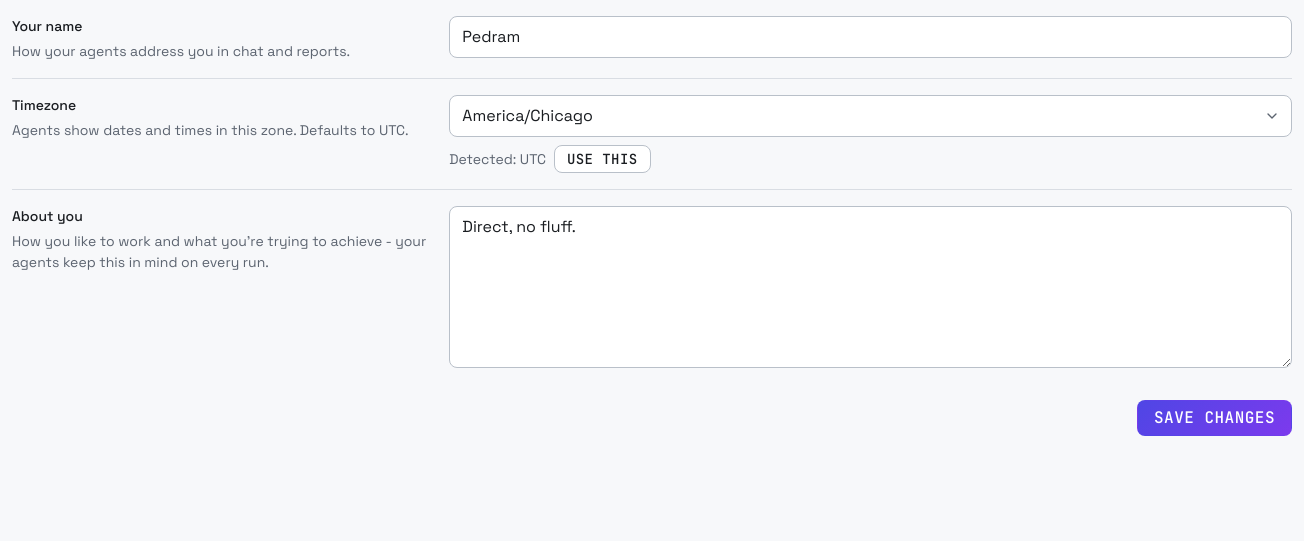
Test: AccountSettingsForm › saves the profile, re-probes the session, and shows a saved state
This screenshot has width=1304, height=541.
Replace the text in the field labelled "Your name" with "Pedram A" at {"x": 871, "y": 37}, box [449, 16, 1292, 58]
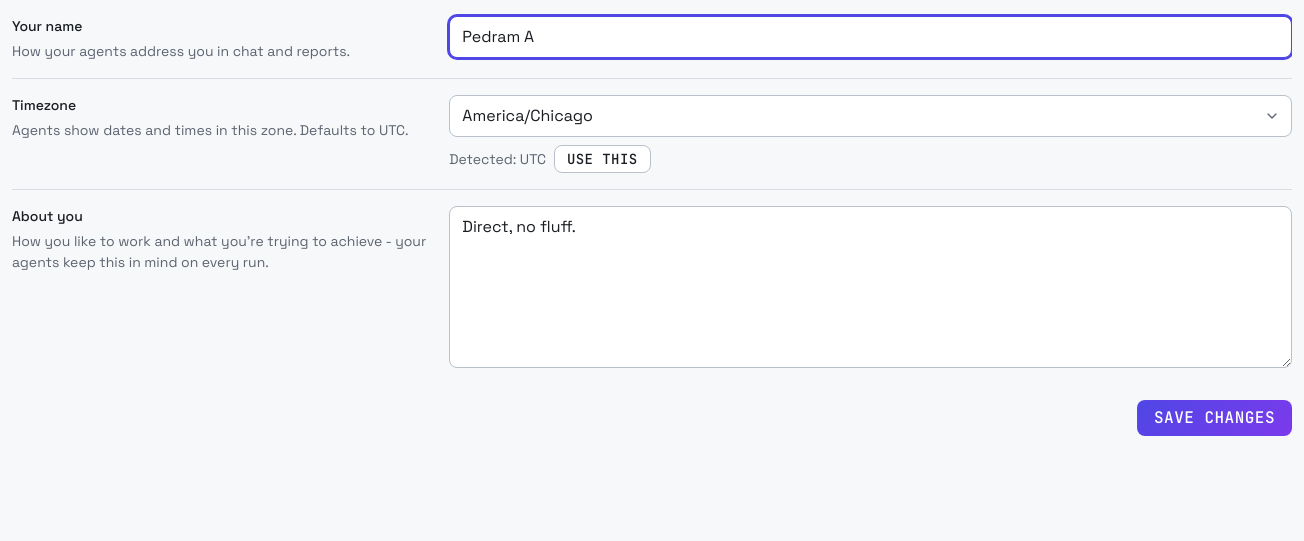
Click the button "Save changes" at {"x": 1214, "y": 418}, box [1137, 400, 1292, 436]
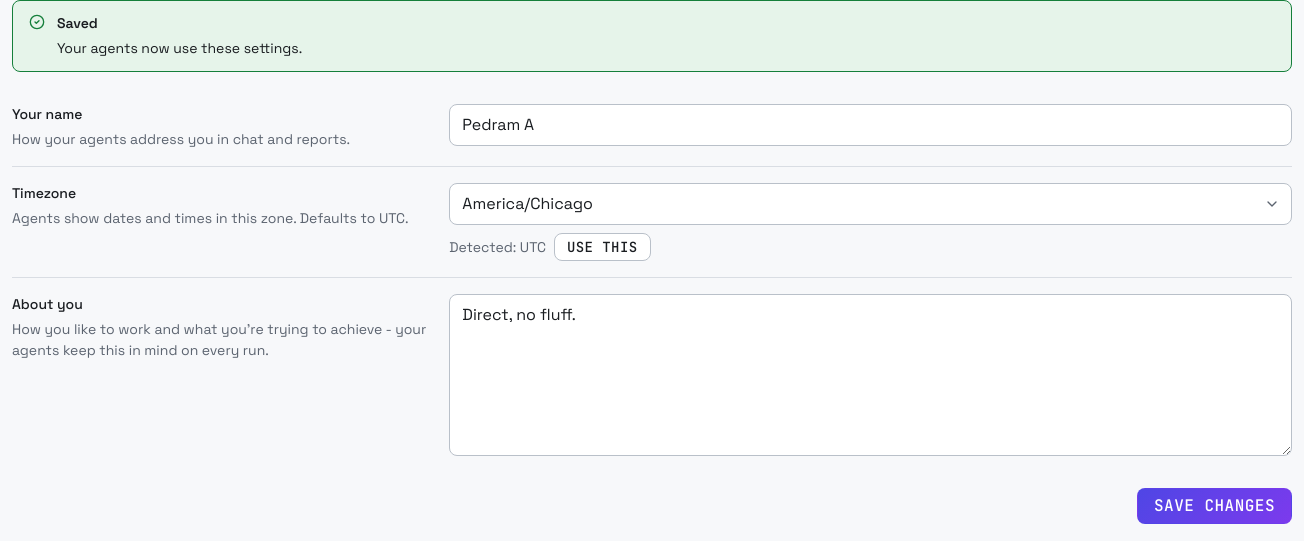
expect the text "Saved" is shown: met, box [57, 14, 98, 32]
